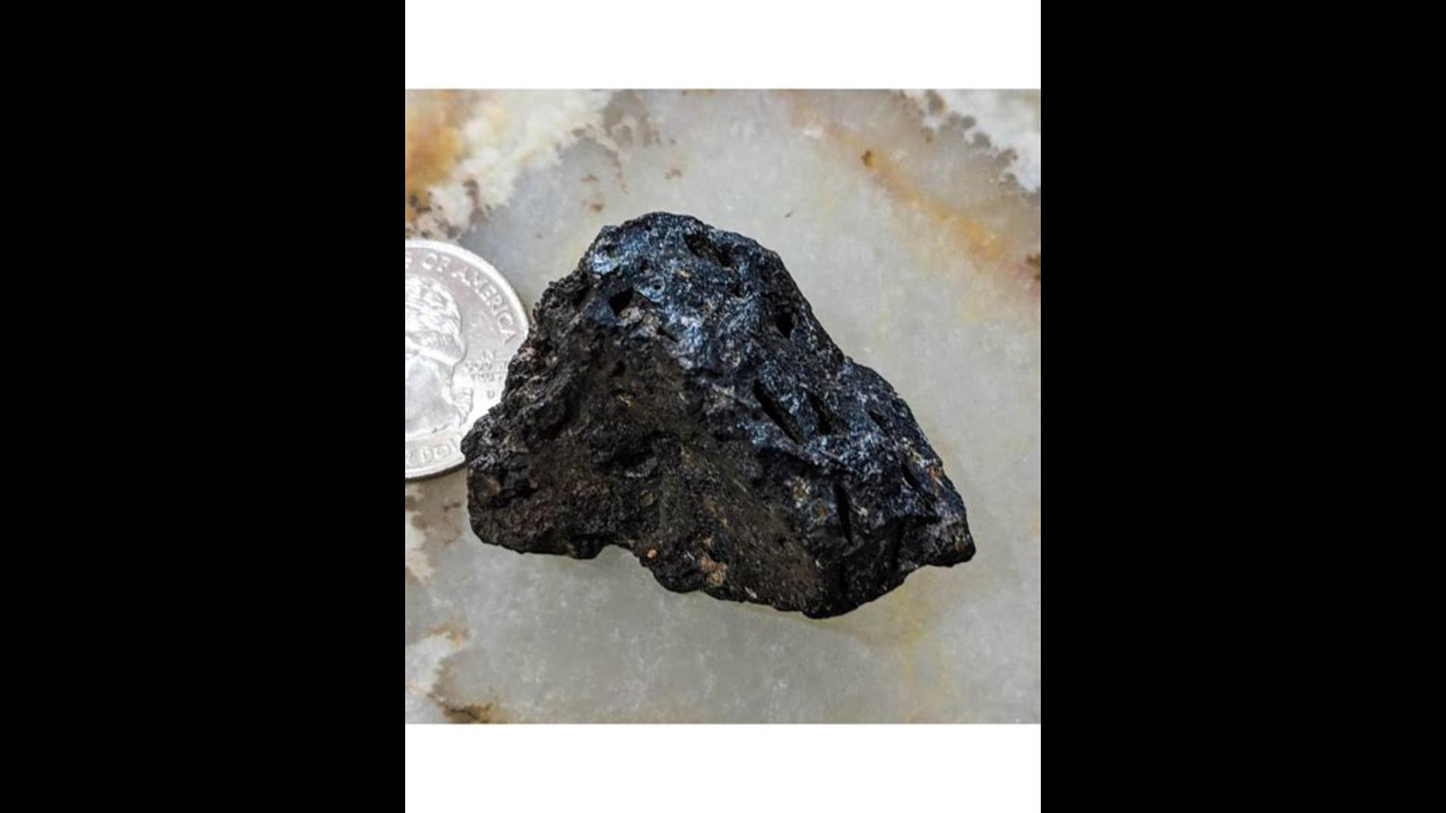rock: (463, 212, 974, 614)
